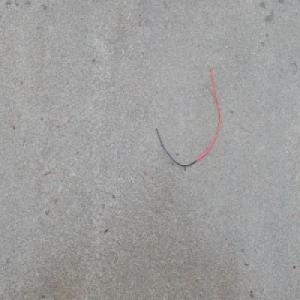Wire: (150, 59, 222, 169)
